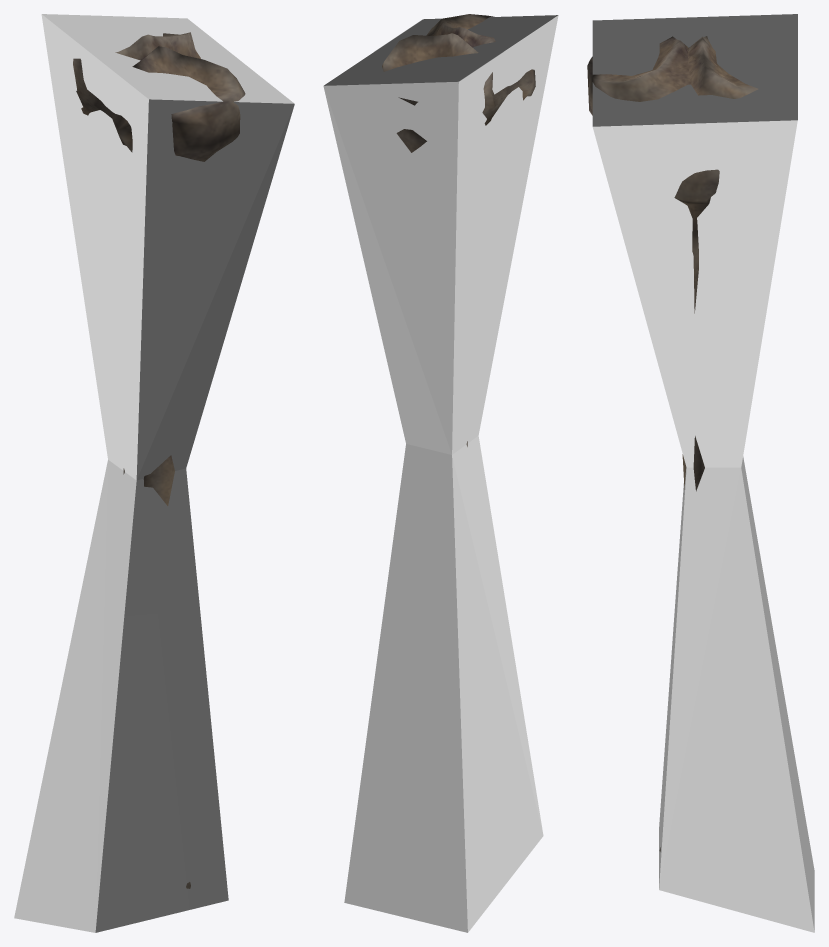
Rendered from SM_Bone_01_01.fbx.
3 renders of one model, left to right at view 1: azimuth 30°, elevation 25°; view 2: azimuth 150°, elevation 25°; view 3: azimuth 270°, elevation 25°, orthographic. The views are drawn at different scales.
Parts seen in each view (by area): view 1: sm_Bone_01_01_ConvexHulls, sm_Bone_01_01_LOD0; view 2: sm_Bone_01_01_ConvexHulls, sm_Bone_01_01_LOD0; view 3: sm_Bone_01_01_ConvexHulls, sm_Bone_01_01_LOD0.
Part boxes in pixels (x1,y1,x2,y2): sm_Bone_01_01_ConvexHulls: [14, 14, 294, 932]; sm_Bone_01_01_LOD0: [73, 32, 245, 888]; sm_Bone_01_01_ConvexHulls: [323, 15, 558, 932]; sm_Bone_01_01_LOD0: [382, 14, 535, 446]; sm_Bone_01_01_ConvexHulls: [592, 14, 814, 932]; sm_Bone_01_01_LOD0: [587, 36, 758, 851].
Size of the model in its own units: 10.74 by 56.64 by 13.45.
